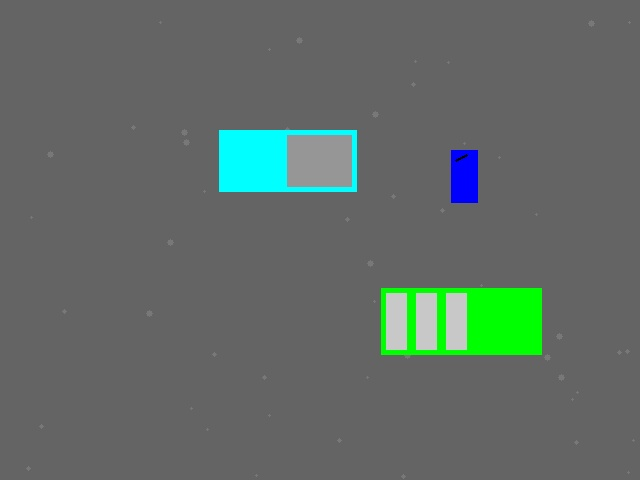bus: (381, 288, 541, 354)
motorcycle: (451, 150, 477, 202)
truck: (219, 130, 356, 191)
